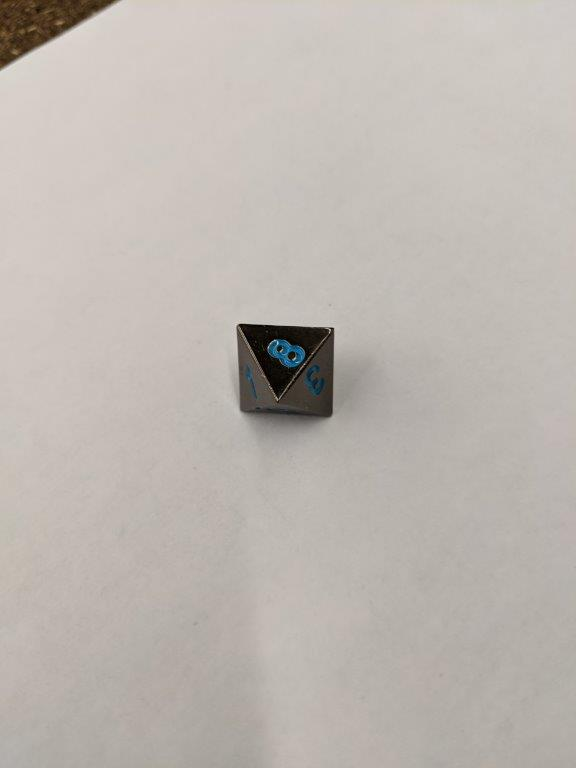d8-8: (234, 322, 338, 424)
